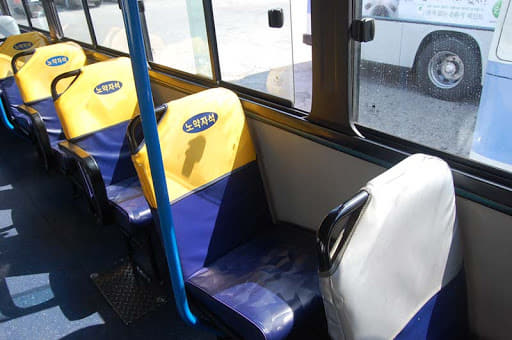seat: (130, 87, 325, 330)
